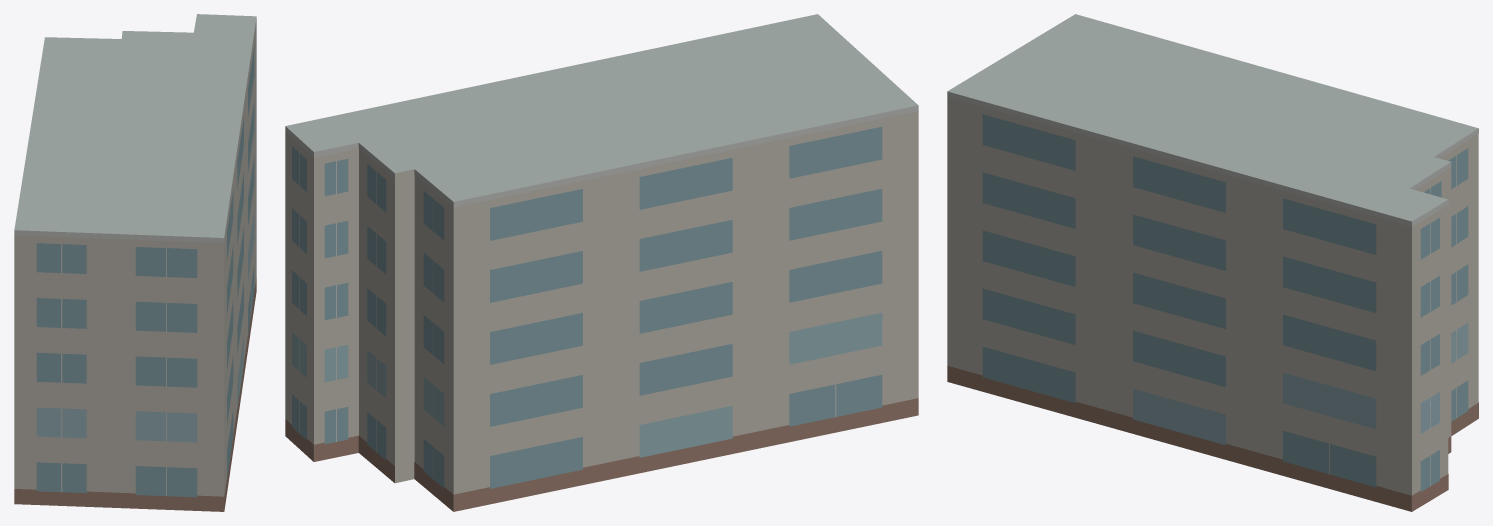
Rendered from survey-upis-32959038.glb.
The picture shows the model from 3 angles, left to right: view 1: azimuth 30°, elevation 25°; view 2: azimuth 150°, elevation 25°; view 3: azimuth 270°, elevation 25°; orthographic projection. The views are drawn at different scales.
Visible parts, largest first — view 1: survey-upis-32959038.tmp; view 2: survey-upis-32959038.tmp; view 3: survey-upis-32959038.tmp.
Part boxes in pixels (x1,y1,x2,y2): survey-upis-32959038.tmp: [14, 14, 256, 511]; survey-upis-32959038.tmp: [285, 14, 918, 511]; survey-upis-32959038.tmp: [947, 14, 1478, 511].
Bounding box in the file's own units: 20.54 × 13.4 × 22.23.
